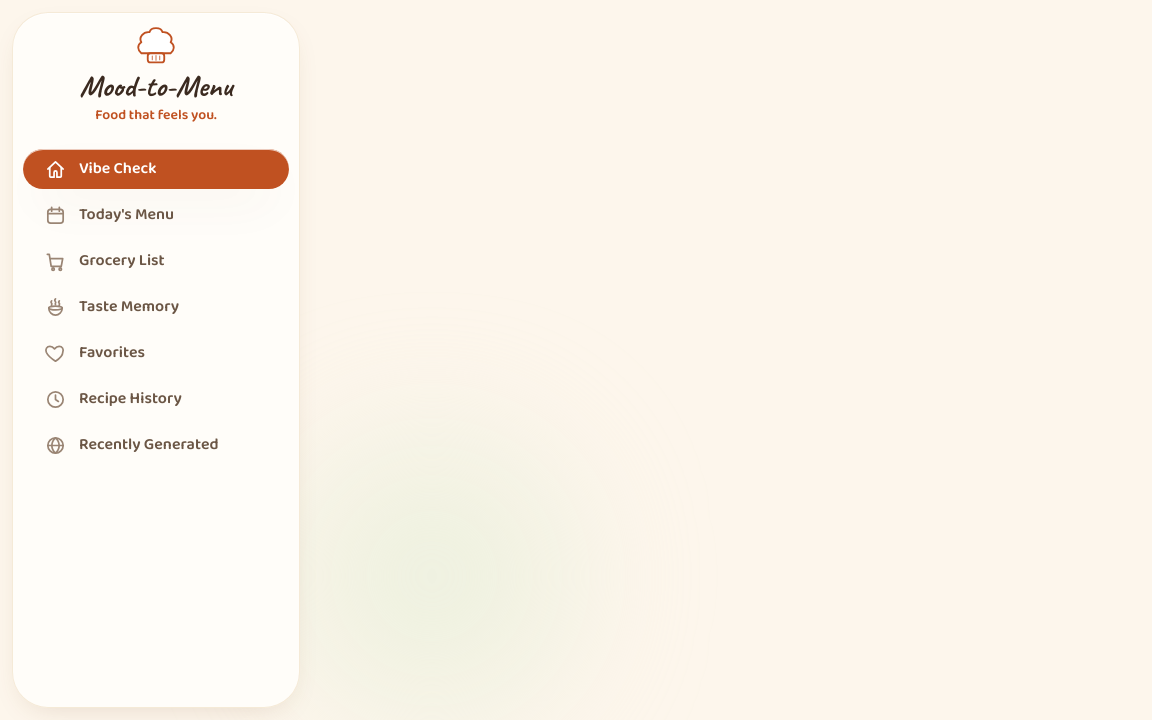
Test: AppShell taste memory integration › Taste Memory nav opens the real screen and becomes the active nav item
Click the button "Taste Memory".
click(156, 307)  # box x1=23 y1=287 x2=289 y2=327
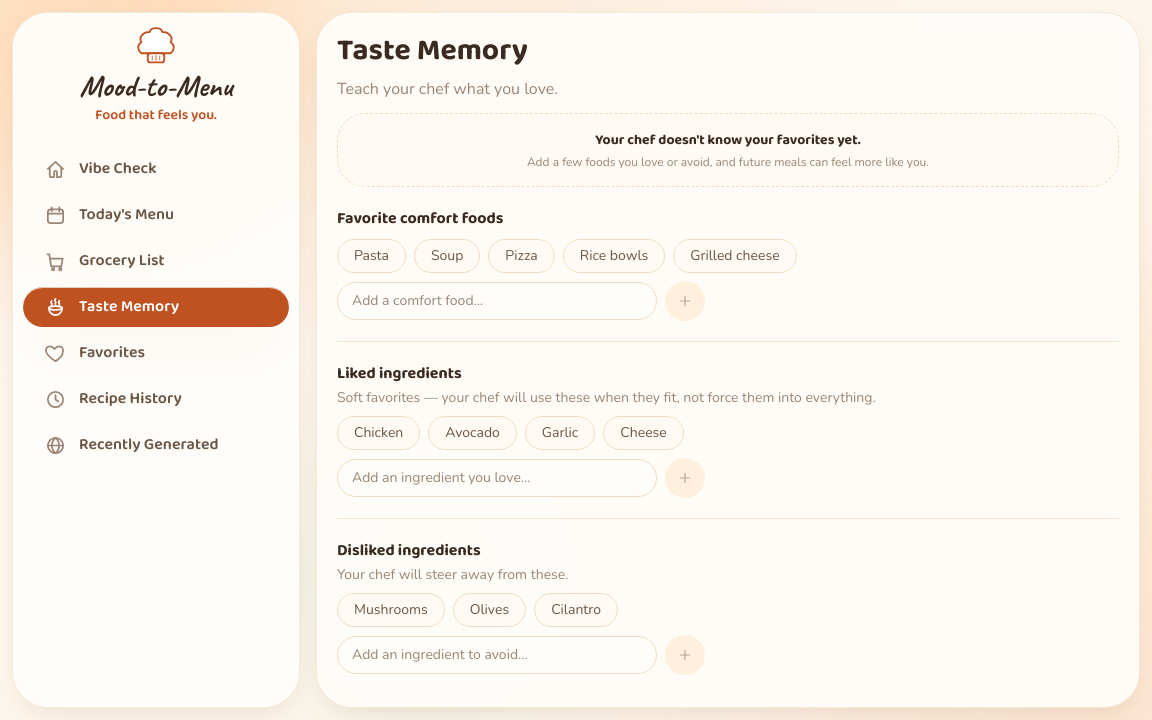
Now the heading "Taste Memory" is shown, box x1=337 y1=27 x2=528 y2=75
